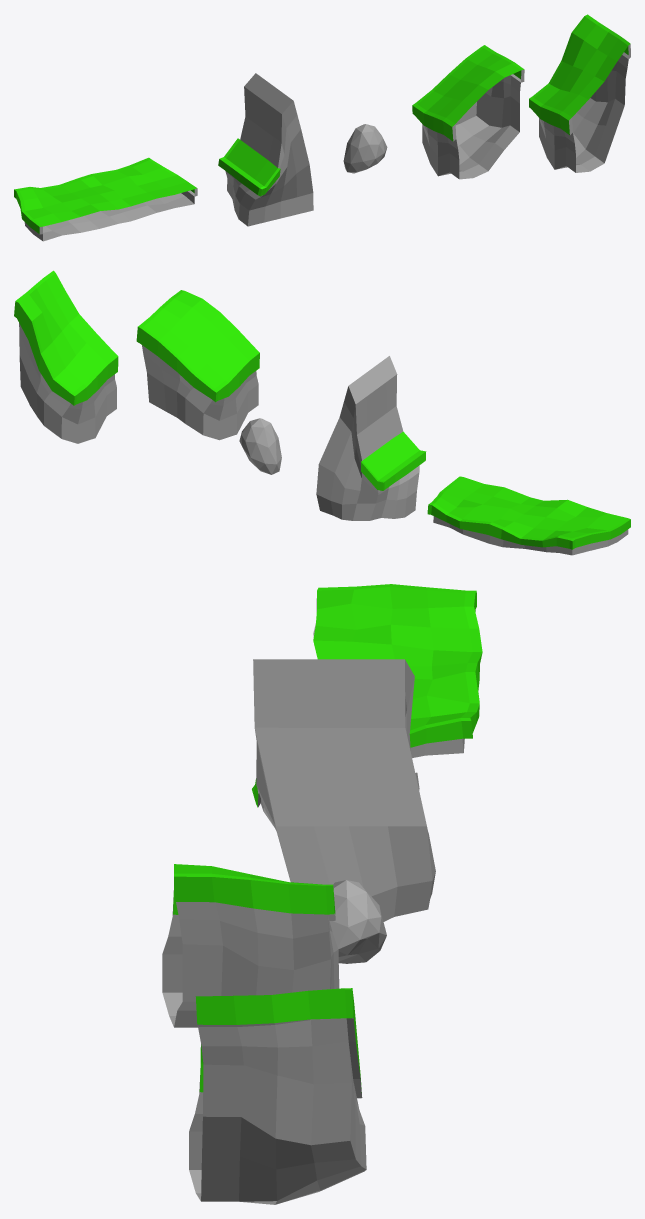
Rendered from game_rocks.fbx.
3 renders of one model, top to bottom at view 1: azimuth 30°, elevation 25°; view 2: azimuth 150°, elevation 25°; view 3: azimuth 270°, elevation 25°, orthographic. The views are drawn at different scales.
Parts seen in each view (by area): view 1: Cube.002, Cube, Cube.001, Cube.003, Icosphere; view 2: Cube, Cube.002, Cube.001, Cube.003, Icosphere; view 3: Cube.001, Cube.002, Cube, Cube.003, Icosphere.
Part boxes in pixels (x1,y1,x2,y2): Cube.002: [529, 14, 630, 172]; Cube: [412, 45, 524, 179]; Cube.001: [218, 73, 313, 226]; Cube.003: [14, 157, 197, 241]; Icosphere: [343, 124, 387, 173]; Cube: [136, 290, 259, 440]; Cube.002: [14, 270, 118, 443]; Cube.001: [316, 356, 426, 520]; Cube.003: [427, 476, 630, 555]; Icosphere: [239, 418, 281, 474]; Cube.001: [252, 659, 435, 921]; Cube.002: [189, 988, 366, 1204]; Cube: [162, 864, 339, 1027]; Cube.003: [313, 584, 482, 757]; Icosphere: [329, 880, 386, 963].
Size of the model in its own units: 1708 by 399 by 422.
